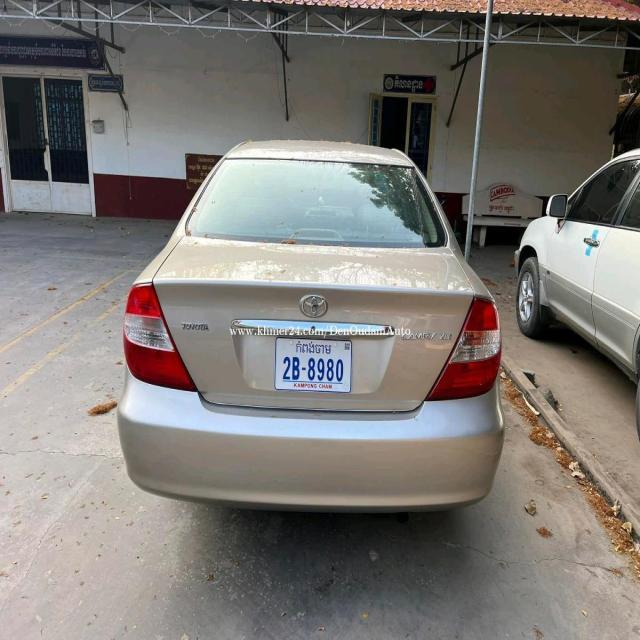Kampong_Cham: (295, 338, 334, 356)
